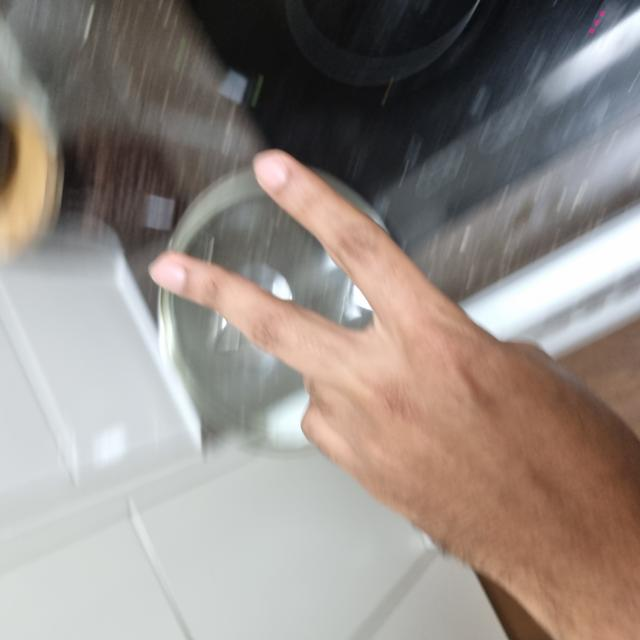Scissors: (20, 154, 487, 637)
